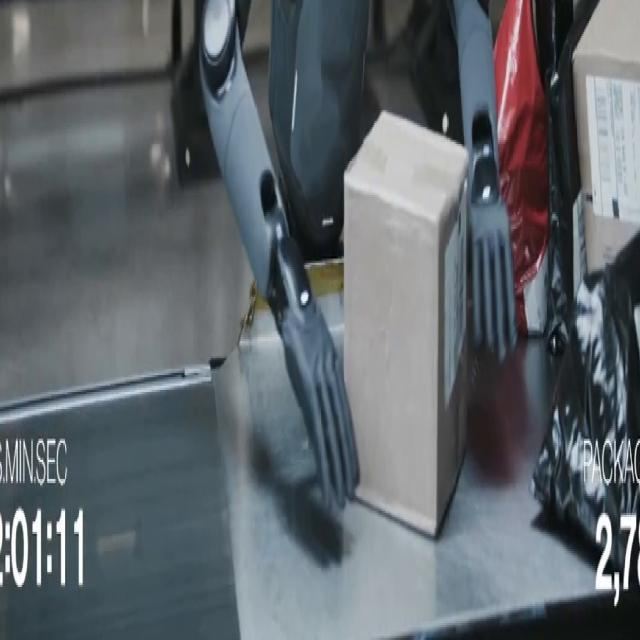package: (344, 113, 468, 536), (533, 234, 639, 591), (538, 0, 597, 356), (494, 0, 549, 334), (573, 0, 639, 271), (584, 202, 639, 273)
